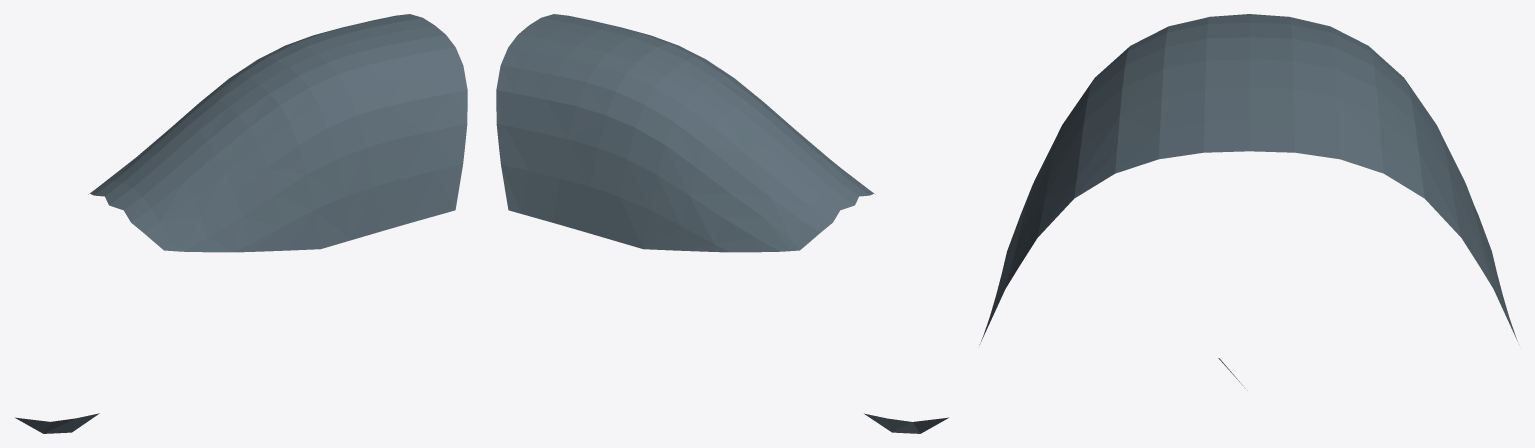
File: f35.glass.glb
3 renders of one model, left to right at view 1: azimuth 30°, elevation 25°; view 2: azimuth 150°, elevation 25°; view 3: azimuth 270°, elevation 25°, orthographic. The views are drawn at different scales.
Visible parts, largest first — view 1: glass; view 2: glass; view 3: glass.
Part boxes in pixels (x1,y1,x2,y2): glass: (15,14,467,433); glass: (496,14,948,433); glass: (979,14,1517,390).
Size of the model in its own units: 2.64 by 1.93 by 1.49.
